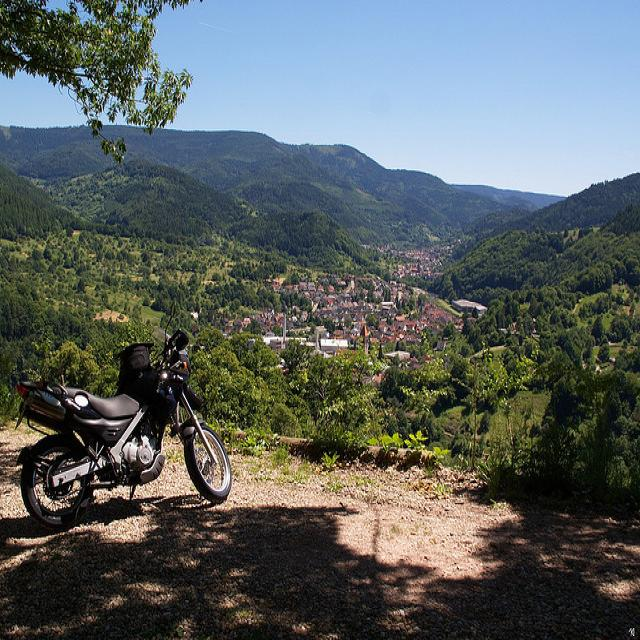motor: (14, 304, 235, 532)
